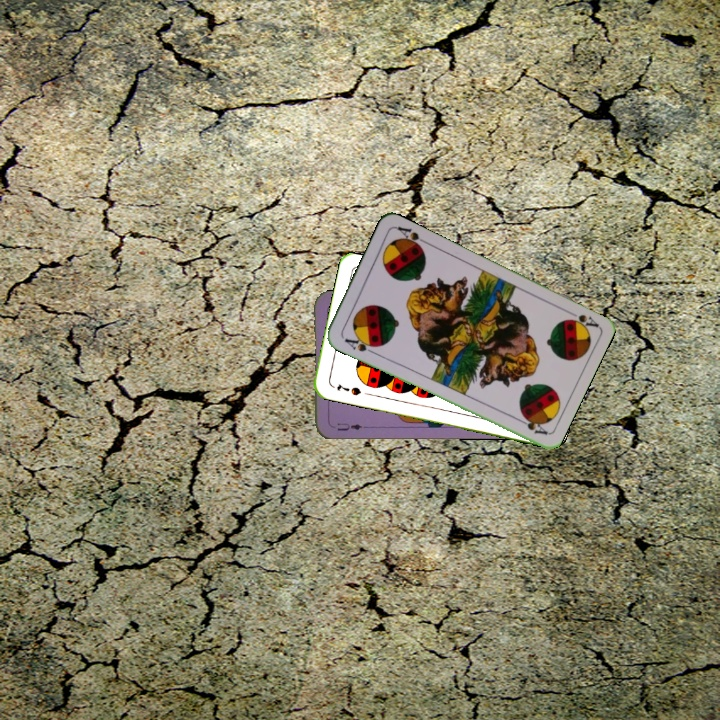EU: (333, 419, 364, 433)
S7: (332, 380, 363, 398)
SA: (340, 332, 380, 357), (562, 306, 600, 332)
